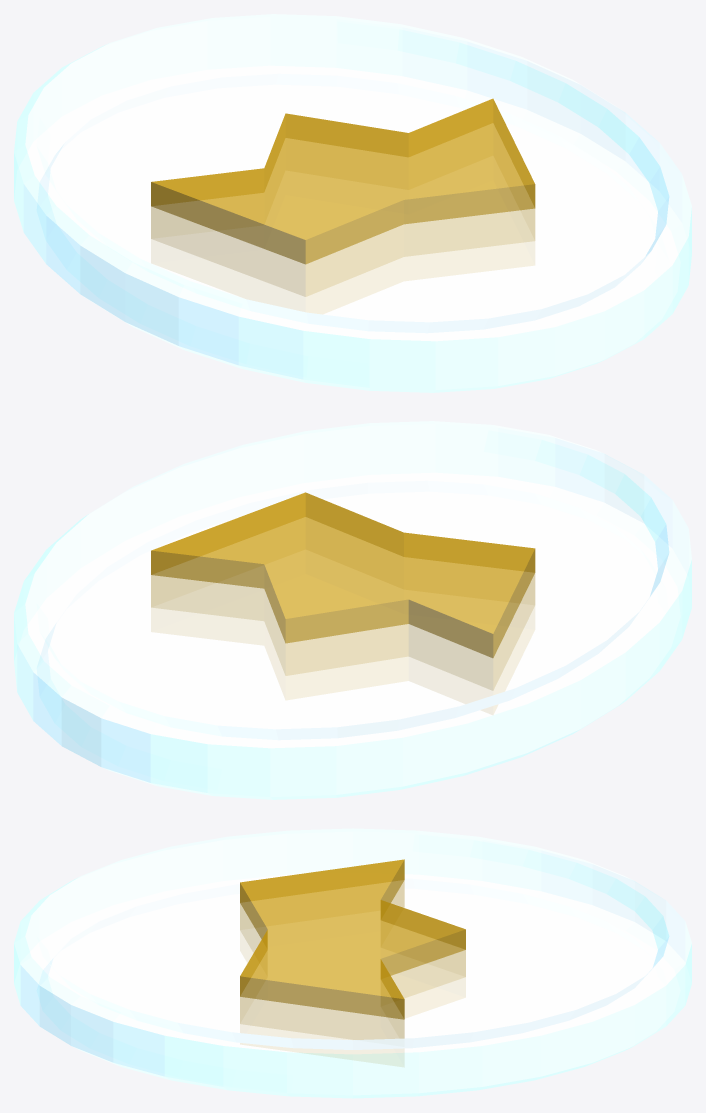
3 views of the same model, one above another, from view 1: azimuth 30°, elevation 25°; view 2: azimuth 150°, elevation 25°; view 3: azimuth 270°, elevation 25° (orthographic). The views are drawn at different scales.
Parts seen in each view (by area): view 1: Cube; view 2: Cube; view 3: Cube.
Boxes of the visible parts, box(x1,y1,x2,y2) form: Cube: box(14, 14, 691, 392); Cube: box(14, 421, 691, 799); Cube: box(14, 828, 691, 1098).
Bounding box in the file's own units: 0.7 × 0.1 × 0.9.
